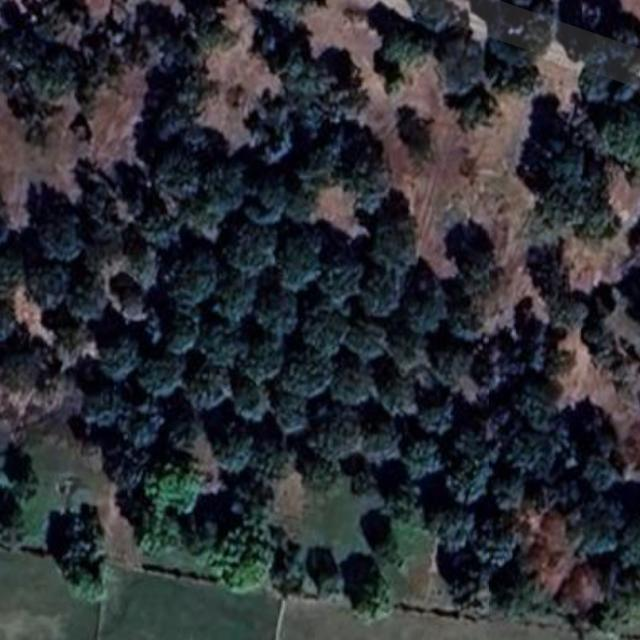Tree: (527, 131, 620, 244), (198, 520, 277, 593), (141, 472, 200, 551), (440, 432, 503, 504), (577, 93, 640, 161), (102, 230, 172, 290), (493, 425, 562, 483), (18, 49, 85, 106), (224, 216, 278, 280), (274, 223, 325, 289), (58, 548, 117, 604), (208, 265, 260, 327), (247, 280, 297, 344), (316, 248, 369, 308), (300, 302, 353, 361), (498, 572, 558, 624), (242, 156, 287, 225), (344, 156, 394, 216), (574, 499, 622, 560), (169, 245, 215, 308), (190, 170, 243, 223), (361, 257, 407, 317), (426, 501, 478, 552), (152, 149, 202, 202), (299, 142, 351, 192), (276, 58, 334, 102), (186, 359, 233, 412), (385, 31, 433, 82), (252, 0, 318, 37), (402, 288, 452, 336), (494, 52, 542, 102), (200, 321, 246, 373), (401, 438, 446, 491), (237, 334, 286, 382), (511, 392, 562, 438), (378, 215, 423, 267), (140, 353, 186, 403), (282, 352, 334, 396), (215, 425, 257, 479), (373, 378, 421, 425), (118, 403, 164, 452), (473, 514, 519, 563), (546, 286, 592, 334), (316, 414, 361, 463), (353, 420, 402, 465), (409, 396, 460, 439), (100, 330, 143, 380), (353, 576, 397, 624), (46, 206, 83, 263), (63, 282, 110, 326), (333, 367, 377, 413), (83, 381, 122, 432), (232, 372, 268, 426), (388, 336, 432, 380), (580, 452, 621, 498), (450, 298, 488, 347), (455, 92, 496, 136), (344, 318, 384, 362), (31, 260, 68, 307), (459, 241, 496, 288), (376, 518, 409, 570), (162, 308, 197, 356), (300, 452, 338, 492), (272, 397, 312, 433), (312, 563, 346, 603), (115, 287, 149, 324)
